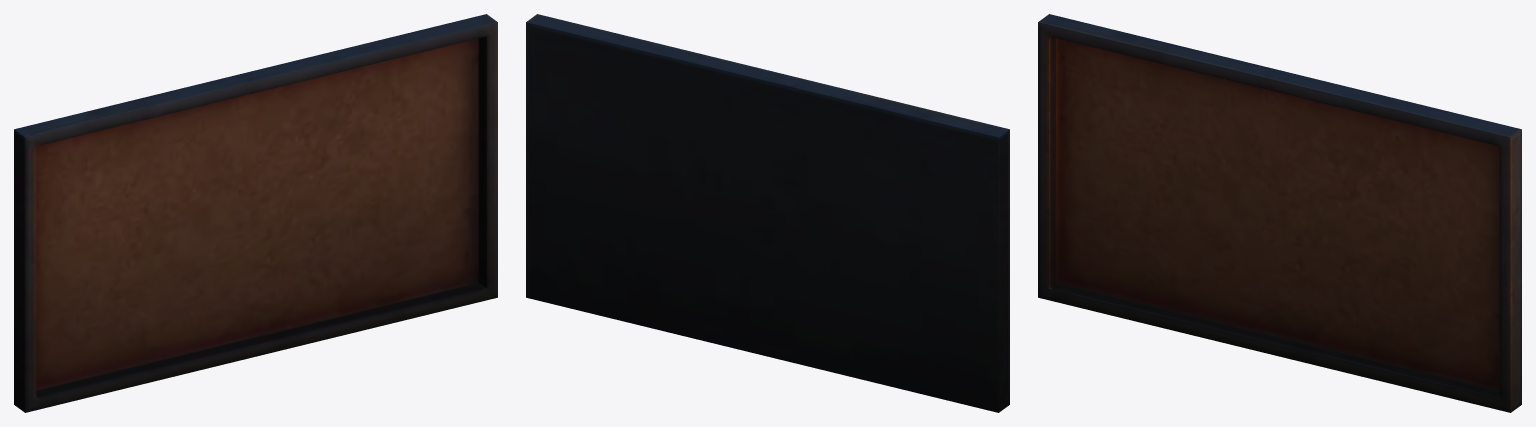
Rendered from board.glb.
3 renders of one model, left to right at view 1: azimuth 30°, elevation 25°; view 2: azimuth 150°, elevation 25°; view 3: azimuth 330°, elevation 25°, orthographic.
Parts seen in each view (by area): view 1: board; view 2: board; view 3: board.
Boxes of the visible parts, bbox=[...] form: board: bbox=[14, 14, 497, 412]; board: bbox=[526, 14, 1009, 412]; board: bbox=[1038, 14, 1521, 412].
Size of the model in its own units: 1.89 by 1.05 by 0.0775.
1 material, 1 textured.
